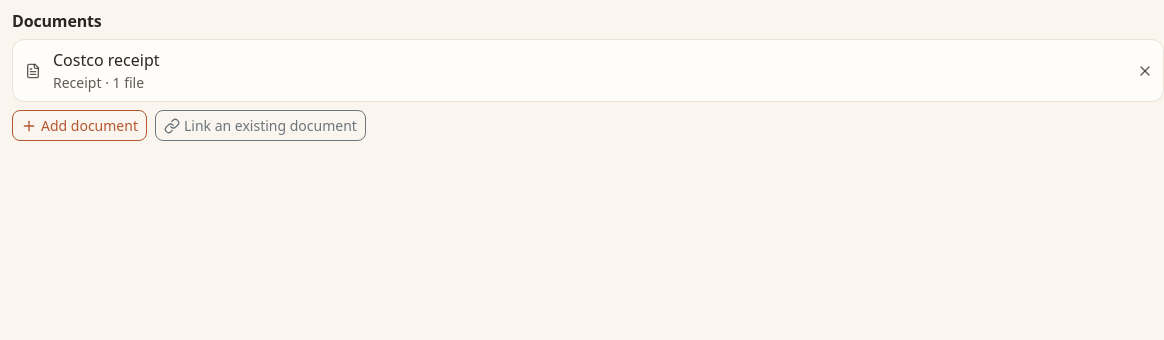
Test case: TransactionDocumentsComponent › hides the add and link actions after the server says the account can only read
Click the button "Link an existing document" at point(260, 126), box [155, 110, 366, 141]
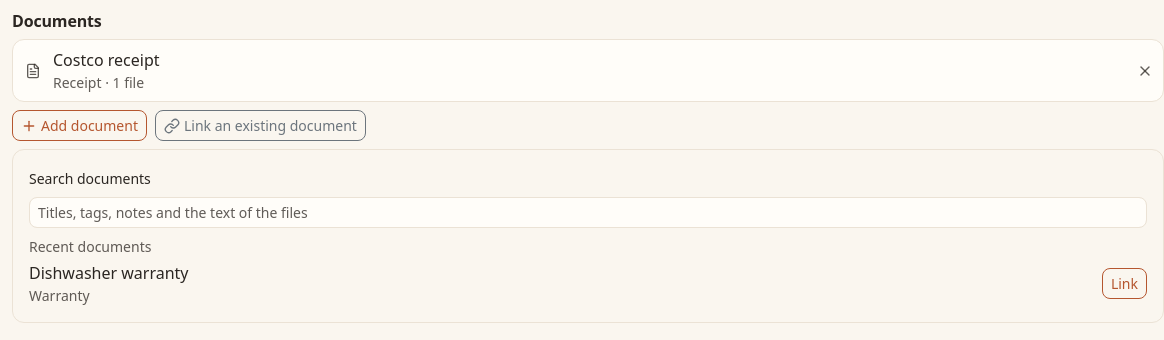
Click the button "Link" at point(1124, 284), box [1102, 268, 1147, 299]
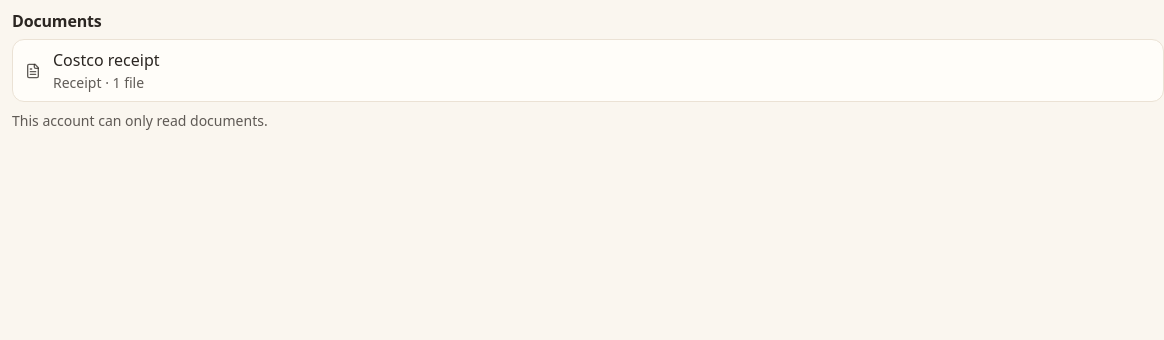
Expected: the number of list items is 1, [12, 39, 1163, 102]
Expected: the text with test id "read-only" reads "This account can only read documents.", [12, 111, 268, 130]
Expected: the text "Add document" is gone
